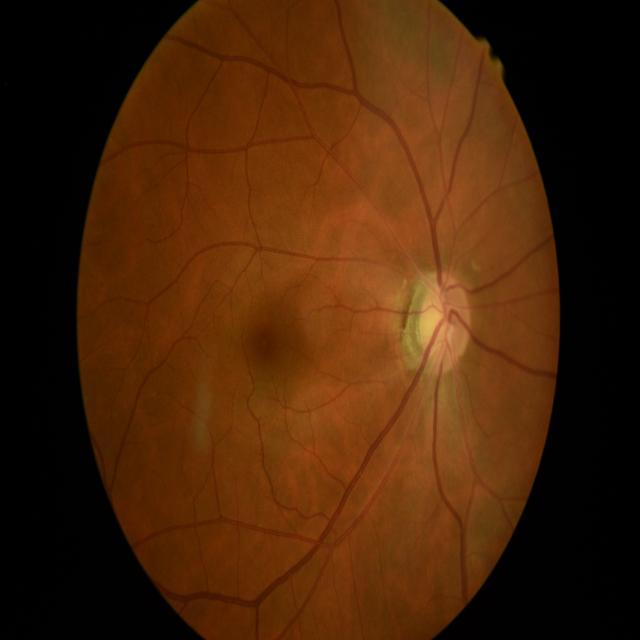cup: (427, 293, 448, 353)
disk: (418, 273, 471, 375)
